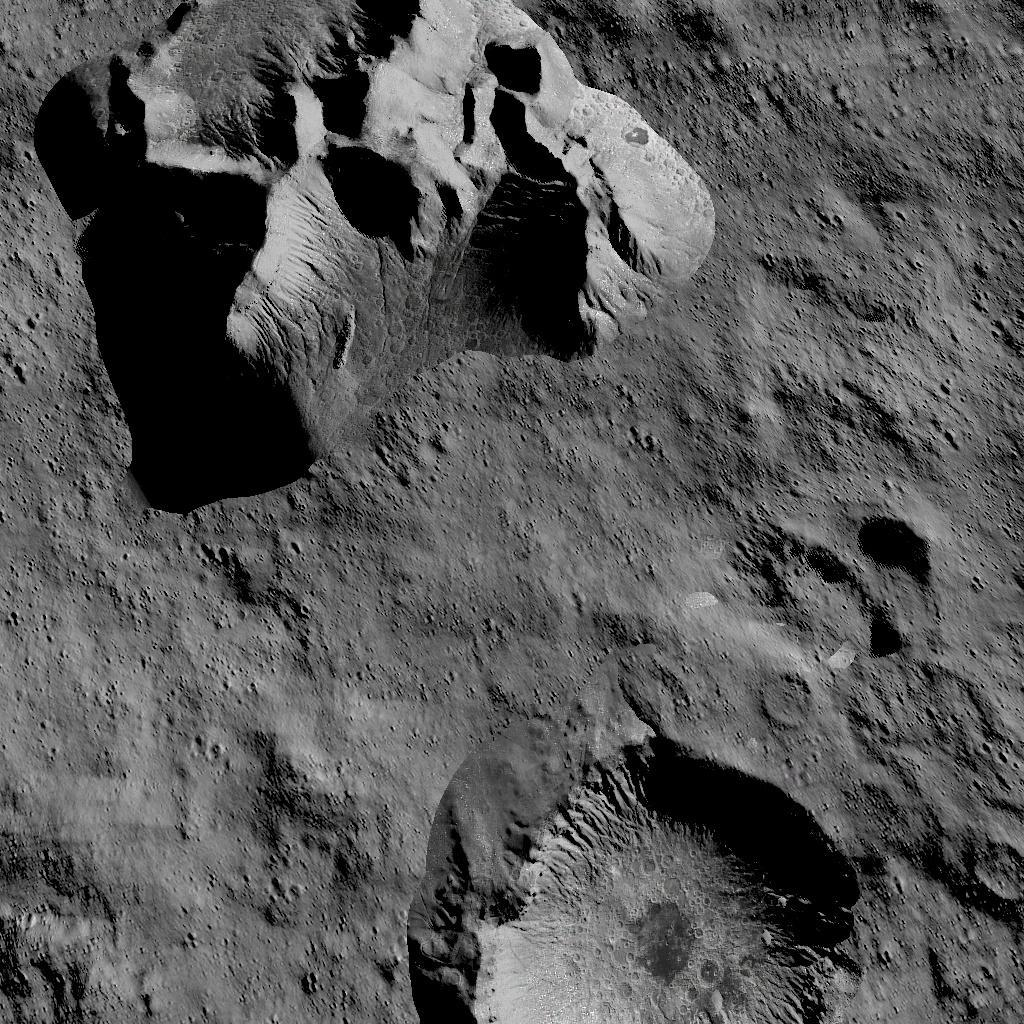Boulders: (32, 0, 712, 507)
Crater: (404, 726, 896, 1024), (838, 516, 941, 666)
Plan surface: (736, 4, 1024, 480), (127, 522, 397, 1024), (441, 516, 778, 713)
